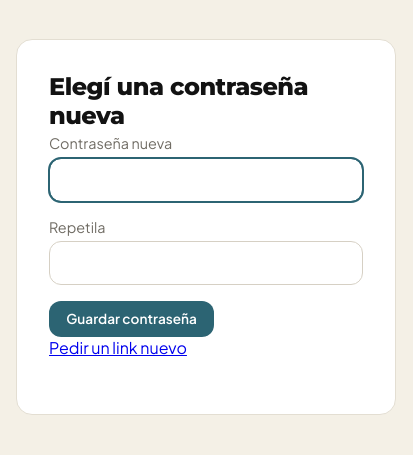
RestablecerPassword › no gasta el token si las dos contraseñas no coinciden
The image size is (413, 455).
In the password field labelled "Contraseña nueva": (206, 180) [49,158,363,202], type "password-larga-1"
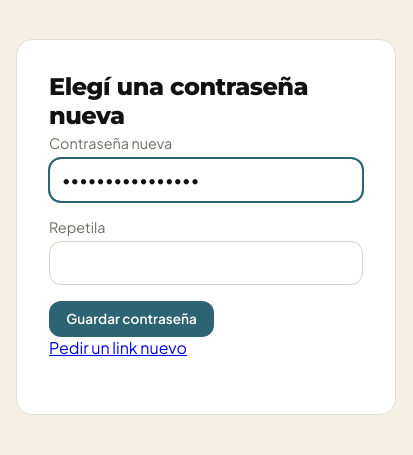
In the password field labelled "Repetila": (206, 262) [49,240,363,284], type "password-larga-2"
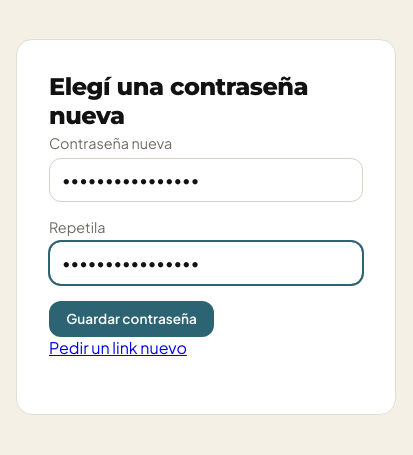
Click the button "Guardar contraseña": (132, 318) [49,300,214,336]
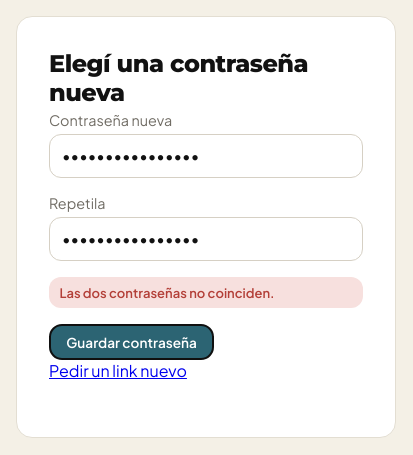
Expected: the message shows "no coinciden", [59,284,275,300]
